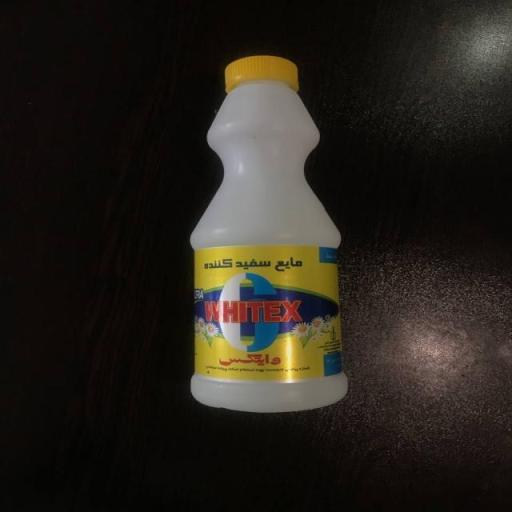plastic: (190, 56, 352, 414)
